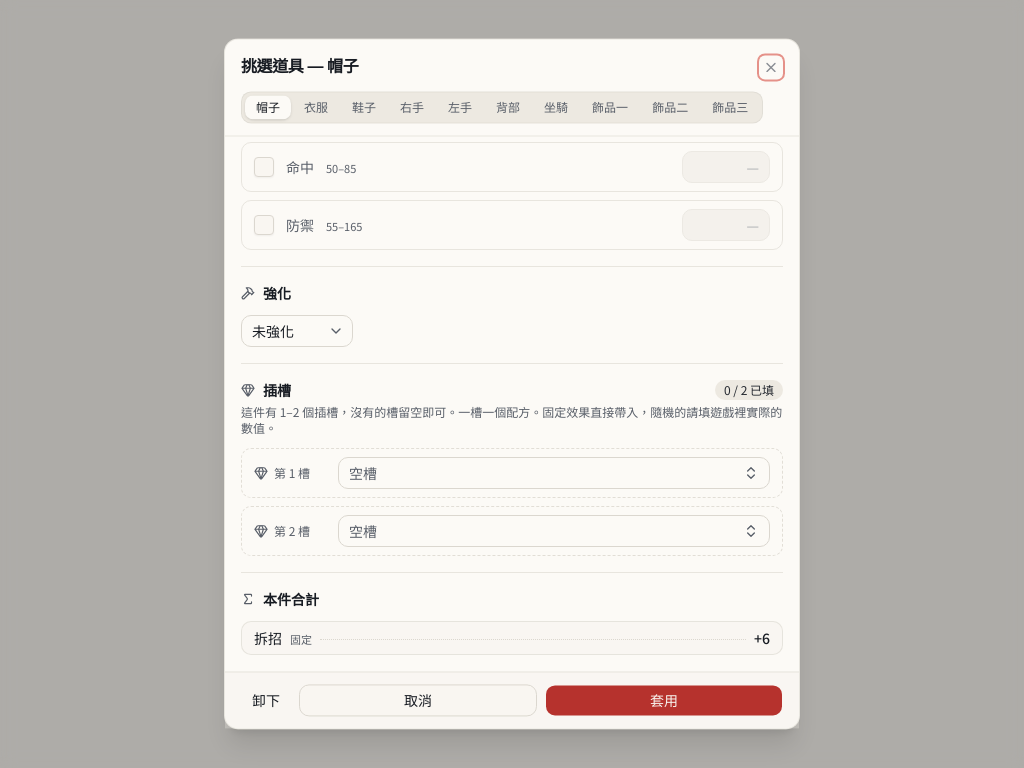
Test: 插槽配方選單 › 搜尋怪物名稱或屬性；查無結果時保留搜尋框與 chip
(page scrolled)
Click the dropdown named "第 1 槽配方".
click(363, 474)  # box [338,458,770,490]
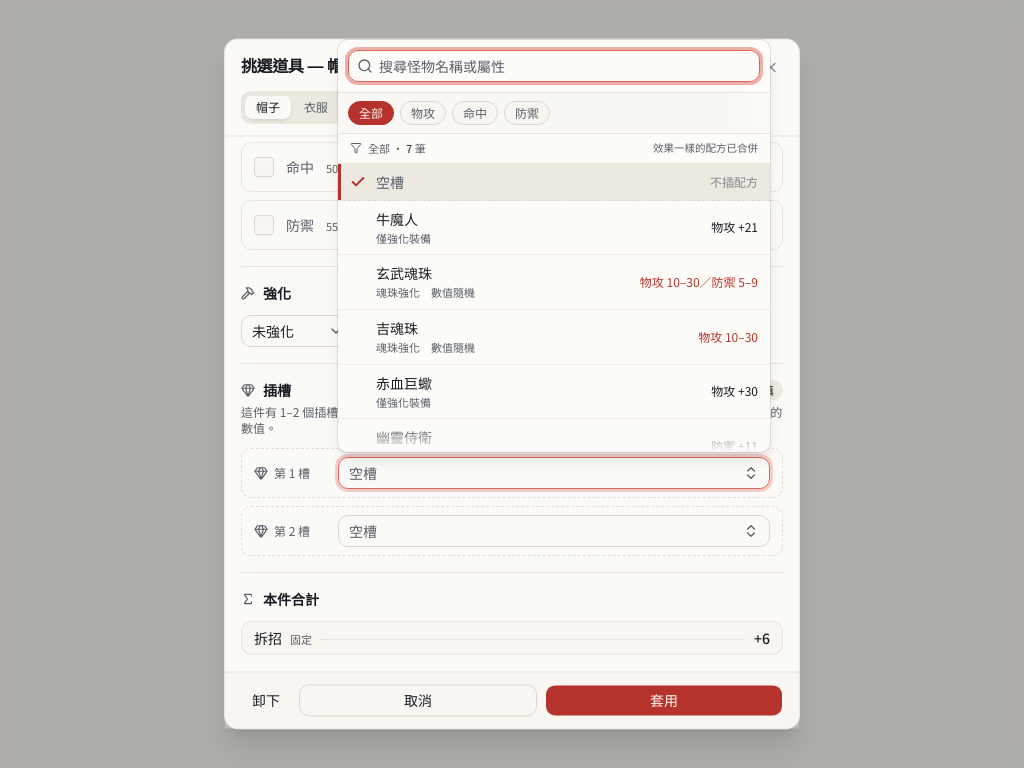
Type "幽靈" into the dropdown named "搜尋配方".
click(566, 66); type("幽靈")  # box [373,50,759,82]
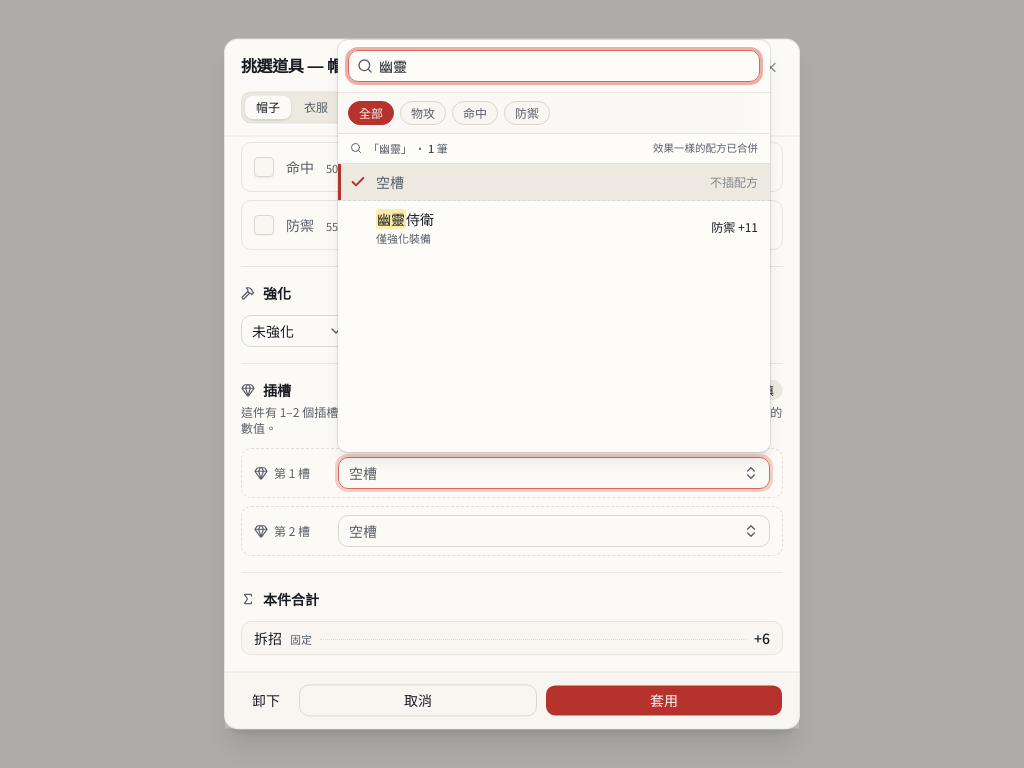
Result: the options read "空槽不插配方", "幽靈侍衛僅強化裝備防禦 +11", in this order at [338,164,770,200]; [338,200,770,254]
Result: the element with test id "recipe-count" shows "「幽靈」 · 1 筆" at [338,134,770,164]
Replace the text in the dropdown named "搜尋配方" with "防禦" at (566, 66), box [373,50,759,82]
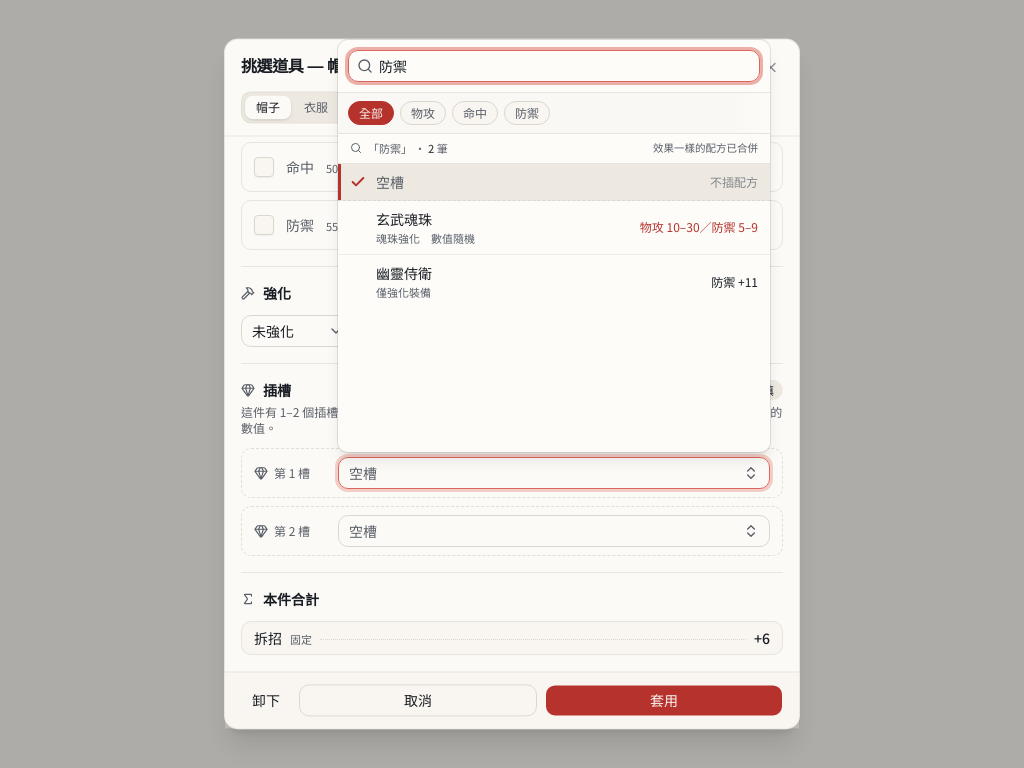
Replace the text in the dropdown named "搜尋配方" with "麒麟" at (566, 66), box [373,50,759,82]
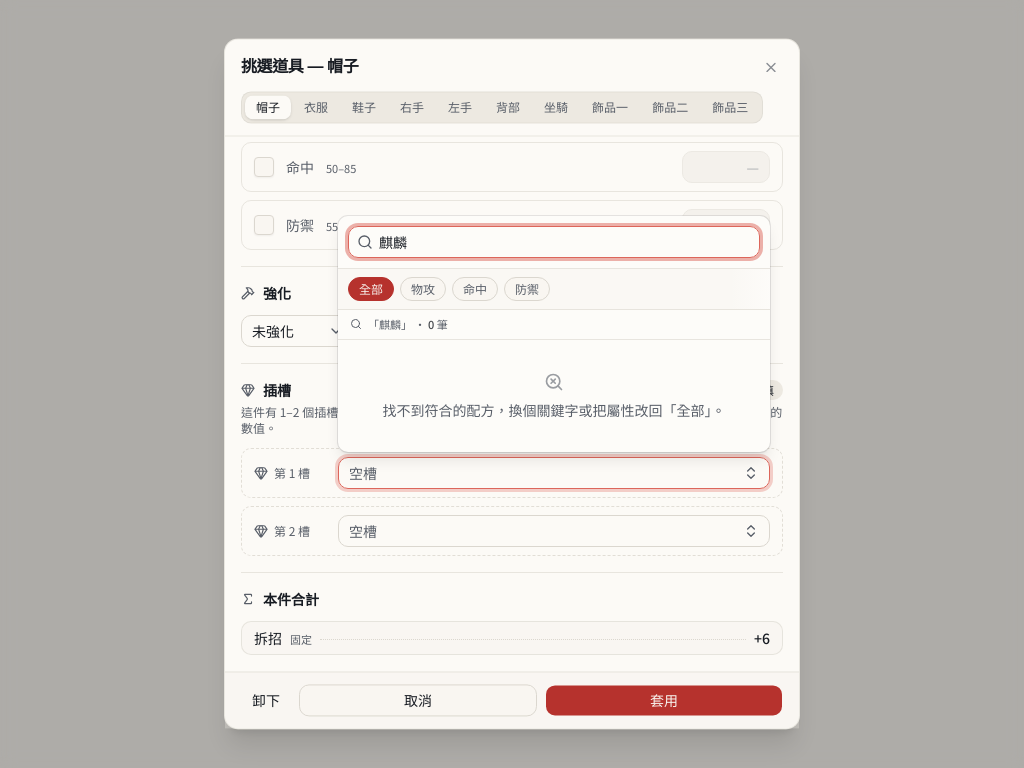
Result: the element named "屬性篩選" is shown at [348,277,550,301]
Result: the text "找不到符合的配方，換個關鍵字或把屬性改回「全部」。" is shown at [382,372,726,420]
Result: no options are shown
